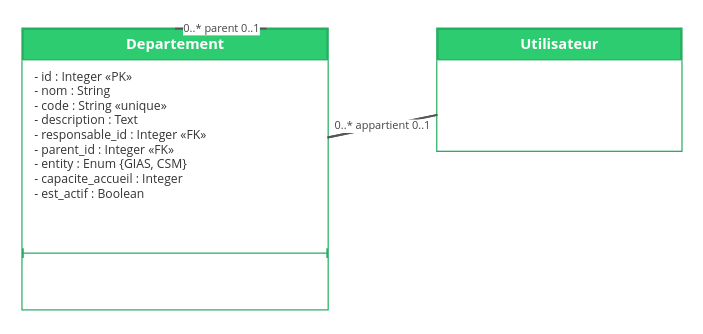
This 703x334 diagram has some shape labels left out. The shapes that lost their labels are listed below. From the top down, each one's centre as x and y in pixels, then its label:
At point 559,105: "- id : Integer «PK» - nom : String - prenom : String - role : Enum".
At point 174,283: "+ deactivate() : void + activate() : void".
